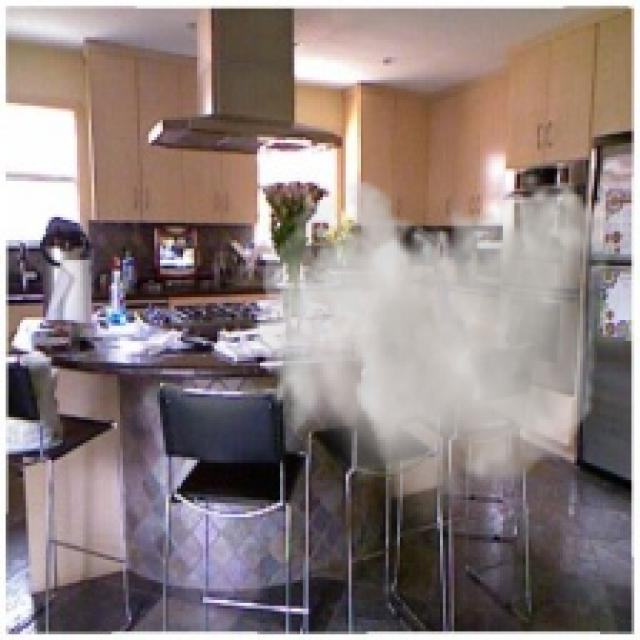smoke: (257, 169, 612, 534)
